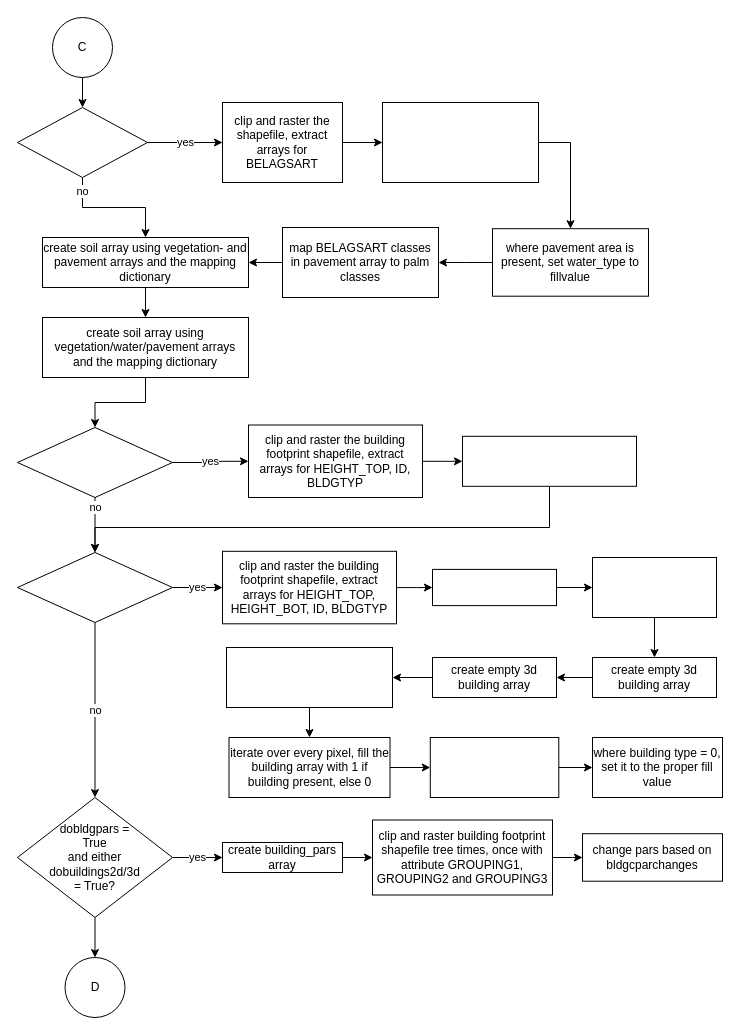
The diagram is 740 pixels wide and 1035 high, and some of its shapes have lost their labels. The centre of each missing label's shape, as x and y in pixels:
create the z vertical coordinate based on the max bldg height: the point at 654,587
dobuildings2d = True?: the point at 94,462
dobuildings3d = True?: the point at 94,587
dopavedbb = True?: the point at 82,142
extract the max building height: the point at 494,587
turn building height and lower limit arrays from meters to z cell indexes: the point at 309,677
where building ID = 0, set it to the proper fill value: the point at 494,767
where building type is -9999, set it to the proper fillvalue: the point at 549,460
where pavement area is present, set vegetation_type to fillvalue: the point at 460,142
